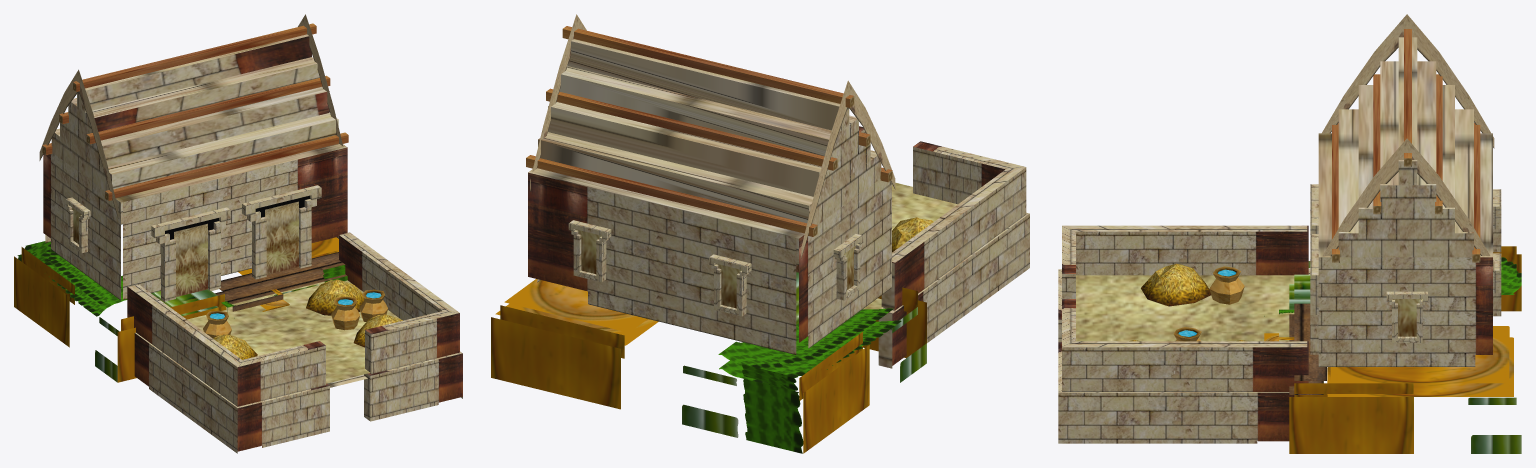
Rendered from corral.dae.
3 renders of one model, left to right at view 1: azimuth 30°, elevation 25°; view 2: azimuth 150°, elevation 25°; view 3: azimuth 270°, elevation 25°, orthographic. The views are drawn at different scales.
Visible parts, largest first — view 1: corral; view 2: corral; view 3: corral.
Part boxes in pixels (<box>): corral: <box>14,14,462,453</box>; corral: <box>491,14,1029,453</box>; corral: <box>1058,14,1521,453</box>.
Size of the model in its own units: 12.75 by 17.48 by 12.69.
